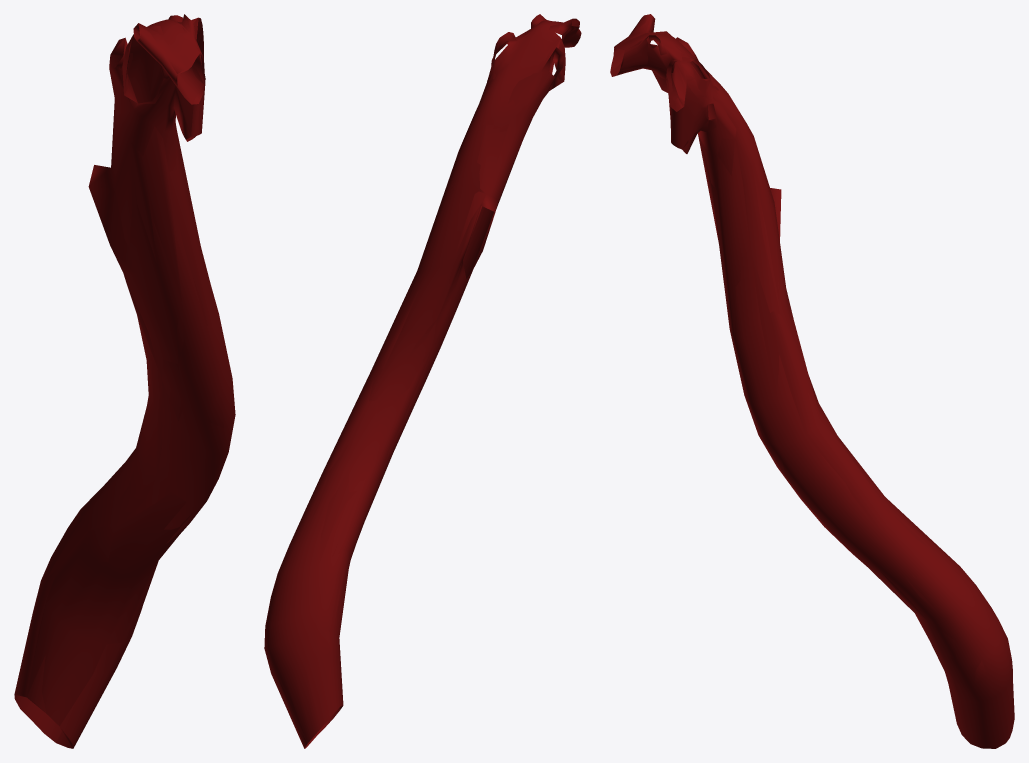
The model's file is truncus brachiocephalicus.fbx.
3 views of the same model, side by side, from view 1: azimuth 30°, elevation 25°; view 2: azimuth 150°, elevation 25°; view 3: azimuth 270°, elevation 25° (orthographic). The views are drawn at different scales.
Parts seen in each view (by area): view 1: truncus brachiocephalicus, truncus brachiocephalicus low; view 2: truncus brachiocephalicus, truncus brachiocephalicus low; view 3: truncus brachiocephalicus, truncus brachiocephalicus low.
Boxes of the visible parts, x1,y1,x2,y2 form: truncus brachiocephalicus: (14, 14, 235, 748); truncus brachiocephalicus low: (14, 18, 234, 748); truncus brachiocephalicus: (264, 14, 581, 748); truncus brachiocephalicus low: (265, 16, 579, 748); truncus brachiocephalicus: (610, 14, 1014, 748); truncus brachiocephalicus low: (610, 14, 1012, 746).
Size of the model in its own units: 3.94 by 15.32 by 8.26.
